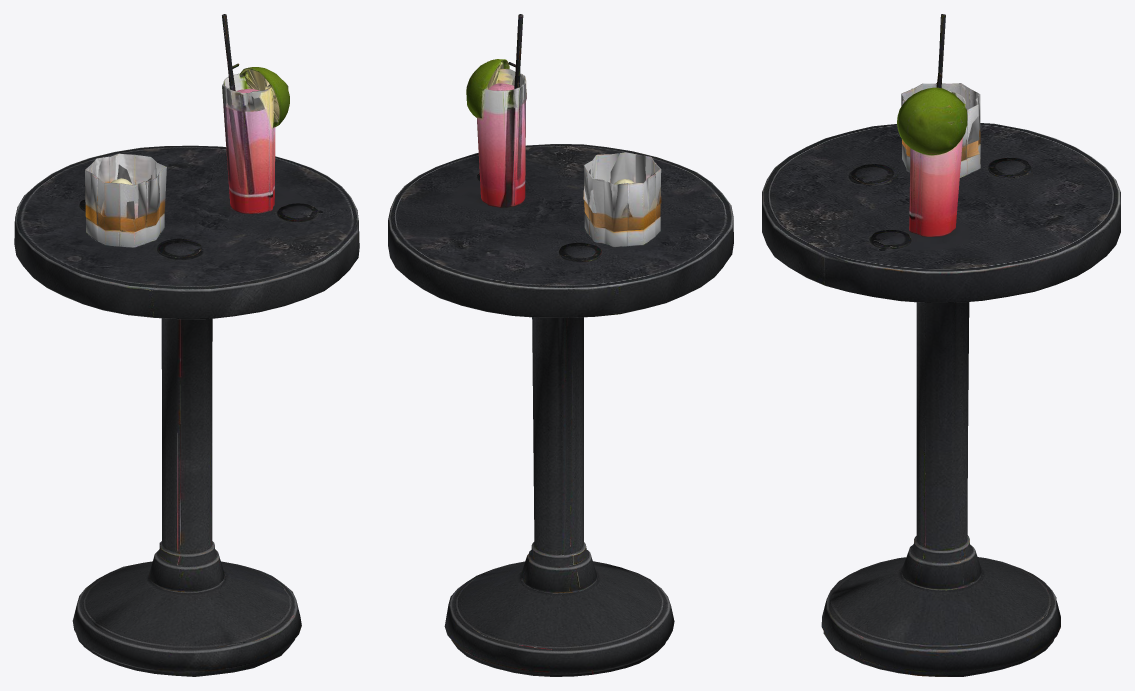
File: table_opt.glb
3 renders of one model, left to right at view 1: azimuth 30°, elevation 25°; view 2: azimuth 150°, elevation 25°; view 3: azimuth 270°, elevation 25°, orthographic. The views are drawn at different scales.
Size of the model in its own units: 0.4888 by 0.9521 by 0.4888.
1 material, 1 textured.
